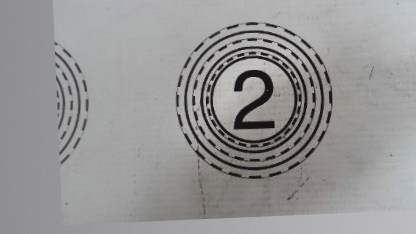2r: (169, 18, 336, 183)
